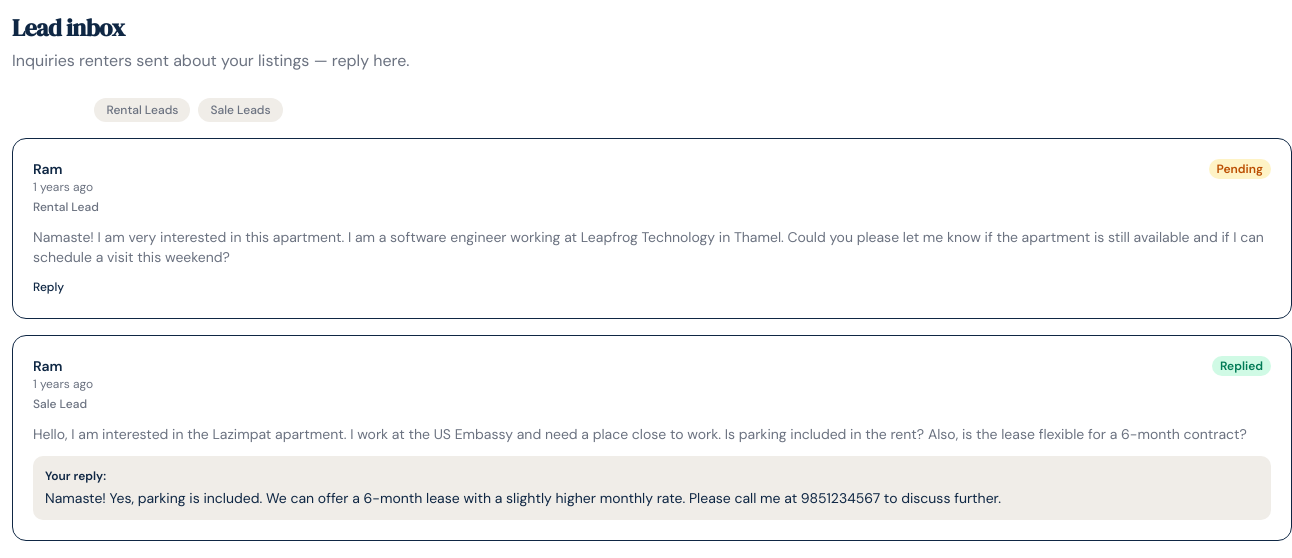
Manage inquiries page › shows purpose chips and filters inbox rows by selected purpose
Expected: the button "Sale Leads" is shown, [198,98,283,122]
Expected: the text "Namaste! I am very interested in this apartment. I am a software engineer working at Leapfrog Technology in Thamel. Coul" is shown, [33,228,1264,266]
Click the button "Rental Leads": (142, 110) [94,98,190,122]
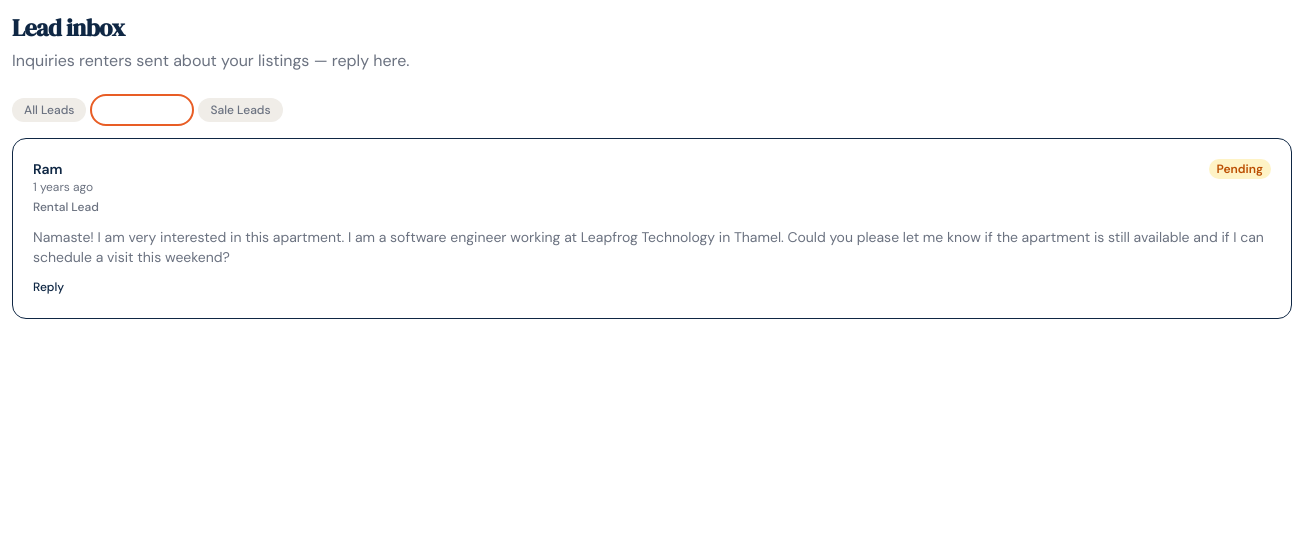
Expected: the text "Namaste! I am very interested in this apartment. I am a software engineer working at Leapfrog Technology in Thamel. Coul" is shown, [33,228,1264,266]
Expected: the text "Hello, I am interested in the Lazimpat apartment. I work at the US Embassy and need a place close to work. Is parking in" is gone
Click the button "Sale Leads": (240, 110) [198,98,283,122]
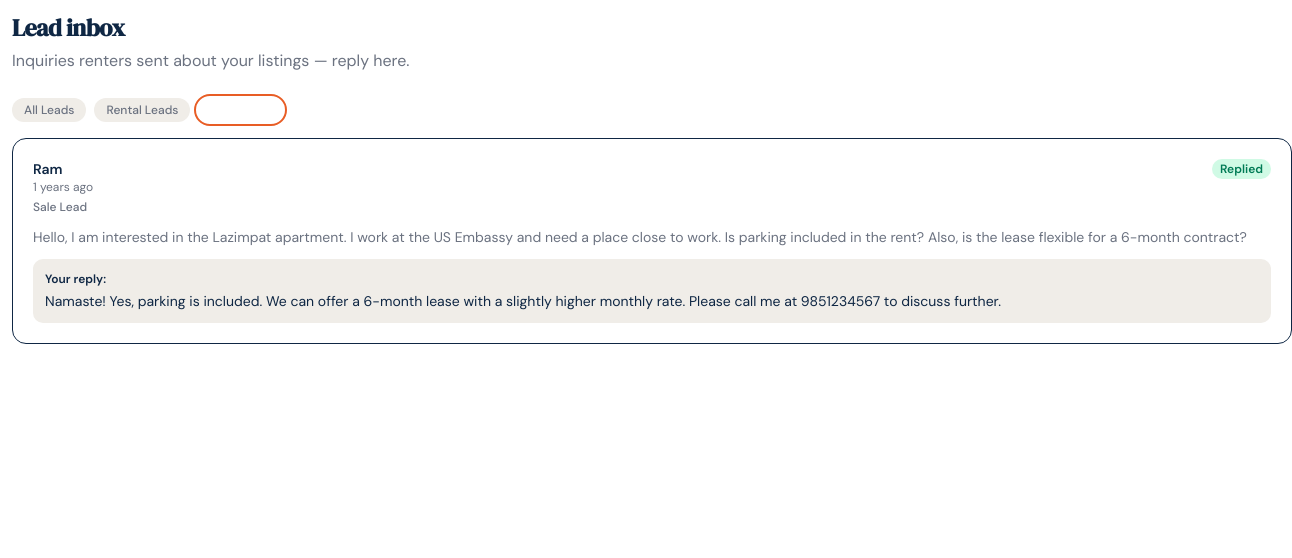
Expected: the text "Hello, I am interested in the Lazimpat apartment. I work at the US Embassy and need a place close to work. Is parking in" is shown, [33,228,1247,246]
Expected: the text "Namaste! I am very interested in this apartment. I am a software engineer working at Leapfrog Technology in Thamel. Coul" is gone
